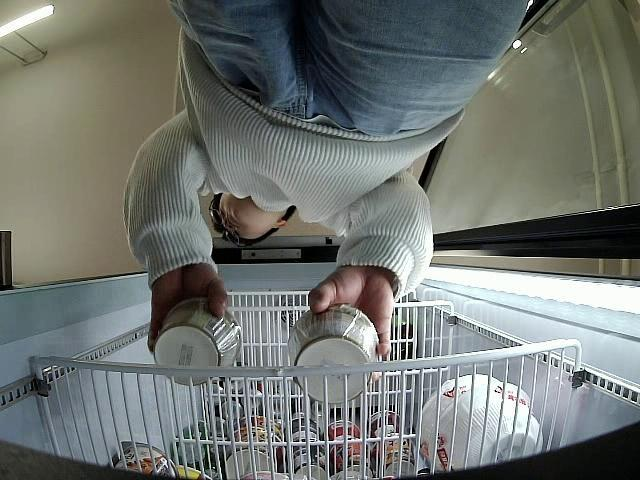04_chapagetti_S: (287, 304, 378, 403), (154, 298, 243, 385)
